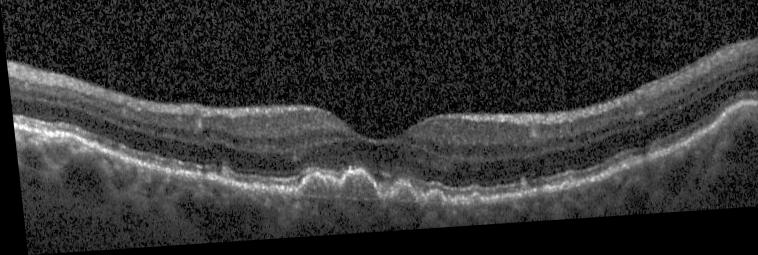retinal_drusen: (293, 179, 335, 202), (337, 179, 372, 204), (718, 115, 742, 136), (386, 190, 409, 207), (48, 137, 79, 149), (514, 185, 527, 205), (418, 198, 438, 210), (209, 171, 223, 186), (467, 200, 475, 210), (88, 143, 95, 153), (557, 189, 564, 197)
